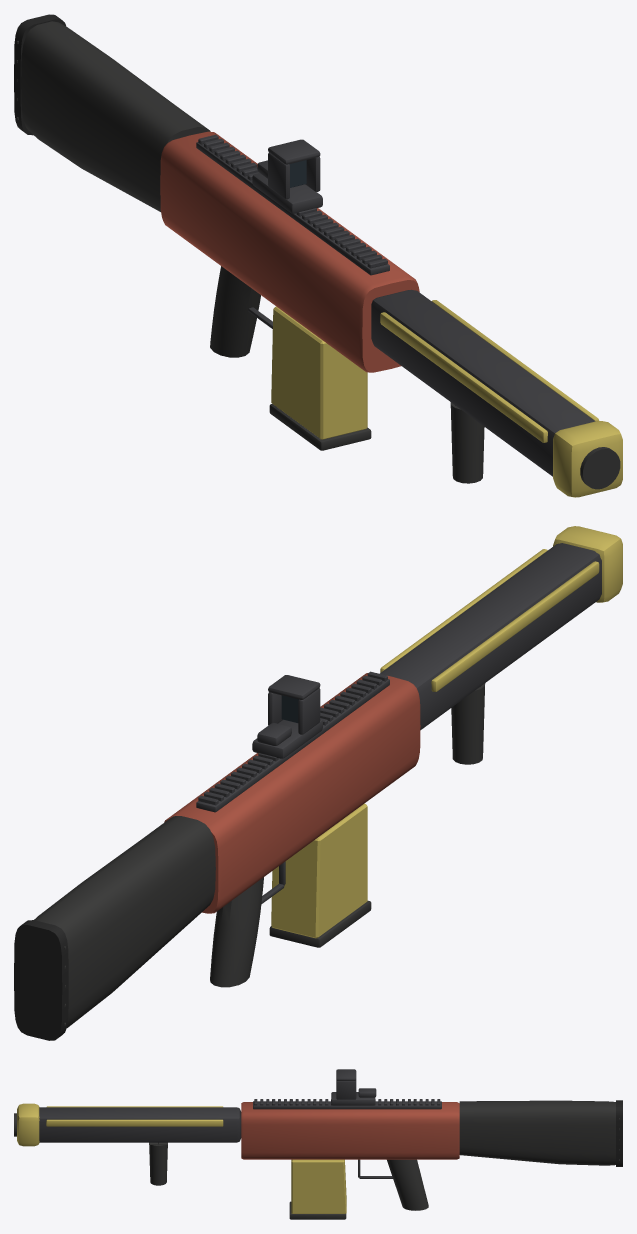
Rendered from bustershot.glb.
The picture shows the model from 3 angles, top to bottom: view 1: azimuth 30°, elevation 25°; view 2: azimuth 150°, elevation 25°; view 3: azimuth 270°, elevation 25°; orthographic projection. The views are drawn at different scales.
Parts seen in each view (by area): view 1: Body; view 2: Body; view 3: Body.
Boxes of the visible parts, x1,y1,x2,y2 form: Body: (14, 14, 622, 497); Body: (14, 526, 622, 1040); Body: (14, 1069, 622, 1219).
Bounding box in the file's own units: 0.064 × 0.261 × 1.03.
